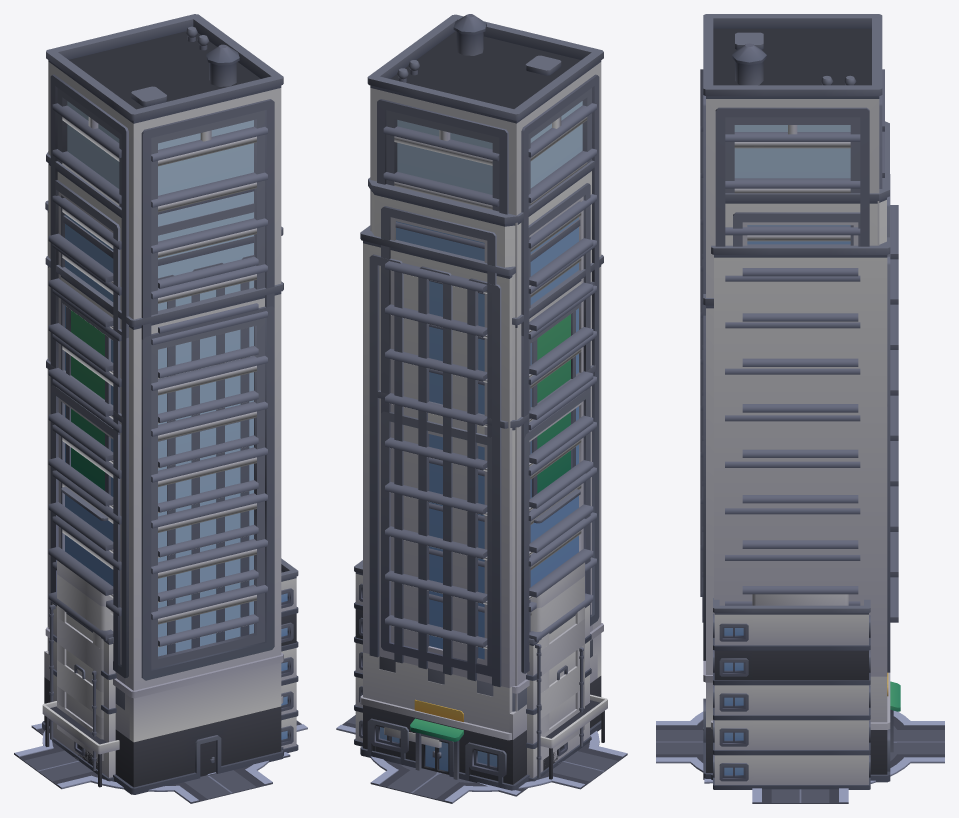
File: props.glb
3 views of the same model, side by side, from view 1: azimuth 30°, elevation 25°; view 2: azimuth 150°, elevation 25°; view 3: azimuth 270°, elevation 25° (orthographic). The views are drawn at different scales.
Parts seen in each view (by area): view 1: prop:com/building-skyscraper-d, prop:com/building-skyscraper-c, prop:com/building-skyscraper-b, prop:com/building-skyscraper-e, prop:com/building-skyscraper-a, prop:com/low-detail-building-wide-b, prop:road/road-roundabout, prop:com/building-n, prop:com/building-j, prop:com/low-detail-building-wide-a, prop:com/building-k; view 2: prop:com/building-skyscraper-e, prop:com/building-skyscraper-d, prop:com/building-skyscraper-b, prop:com/building-skyscraper-a, prop:com/building-skyscraper-c, prop:road/road-roundabout, prop:com/low-detail-building-wide-b, prop:com/building-j, prop:com/building-n, prop:com/low-detail-building-wide-a, prop:com/building-k; view 3: prop:com/building-skyscraper-e, prop:com/building-skyscraper-d, prop:com/building-n, prop:com/building-skyscraper-b, prop:com/building-skyscraper-c, prop:road/road-roundabout, prop:com/building-skyscraper-a, prop:com/low-detail-building-wide-b.
Part boxes in pixels (left/top/right/bottom): prop:com/building-skyscraper-d: left=46, top=14, right=283, bottom=793; prop:com/building-skyscraper-c: left=45, top=256, right=283, bottom=794; prop:com/building-skyscraper-b: left=42, top=151, right=258, bottom=784; prop:com/building-skyscraper-e: left=45, top=200, right=283, bottom=749; prop:com/building-skyscraper-a: left=42, top=358, right=258, bottom=791; prop:com/low-detail-building-wide-b: left=57, top=560, right=104, bottom=760; prop:road/road-roundabout: left=14, top=720, right=307, bottom=803; prop:com/building-n: left=42, top=558, right=298, bottom=787; prop:com/building-j: left=49, top=601, right=116, bottom=781; prop:com/low-detail-building-wide-a: left=57, top=595, right=113, bottom=735; prop:com/building-k: left=66, top=650, right=97, bottom=771; prop:com/building-skyscraper-e: left=360, top=219, right=580, bottom=789; prop:com/building-skyscraper-d: left=367, top=14, right=603, bottom=782; prop:com/building-skyscraper-b: left=368, top=160, right=597, bottom=785; prop:com/building-skyscraper-a: left=371, top=365, right=599, bottom=790; prop:com/building-skyscraper-c: left=410, top=254, right=603, bottom=779; prop:road/road-roundabout: left=336, top=715, right=627, bottom=803; prop:com/low-detail-building-wide-b: left=538, top=562, right=584, bottom=760; prop:com/building-j: left=526, top=602, right=591, bottom=781; prop:com/building-n: left=354, top=560, right=607, bottom=779; prop:com/low-detail-building-wide-a: left=530, top=597, right=584, bottom=735; prop:com/building-k: left=543, top=647, right=583, bottom=774; prop:com/building-skyscraper-e: left=711, top=174, right=890, bottom=782; prop:com/building-skyscraper-d: left=700, top=14, right=897, bottom=778; prop:com/building-n: left=713, top=598, right=870, bottom=789; prop:com/building-skyscraper-b: left=702, top=121, right=898, bottom=594; prop:com/building-skyscraper-c: left=700, top=294, right=900, bottom=779; prop:road/road-roundabout: left=656, top=711, right=944, bottom=803; prop:com/building-skyscraper-a: left=702, top=400, right=898, bottom=622; prop:com/low-detail-building-wide-b: left=753, top=594, right=847, bottom=605.
Bounding box in the file's own units: 24 × 66.18 × 24.
